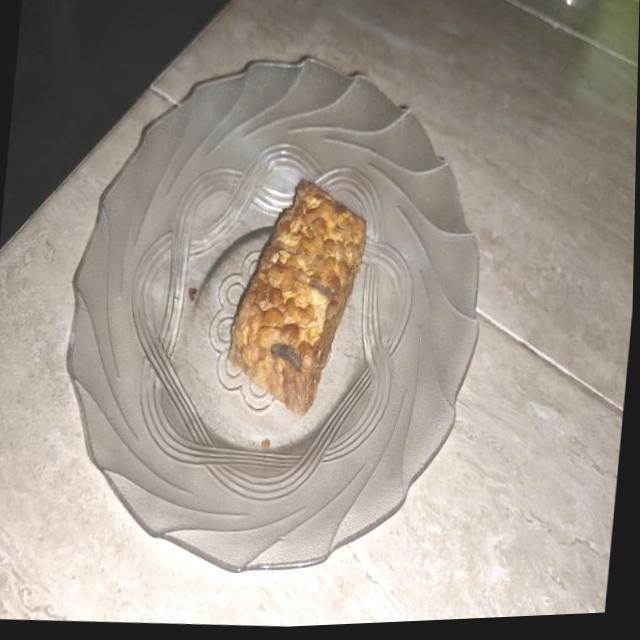tempe_goreng: (228, 181, 366, 414)
